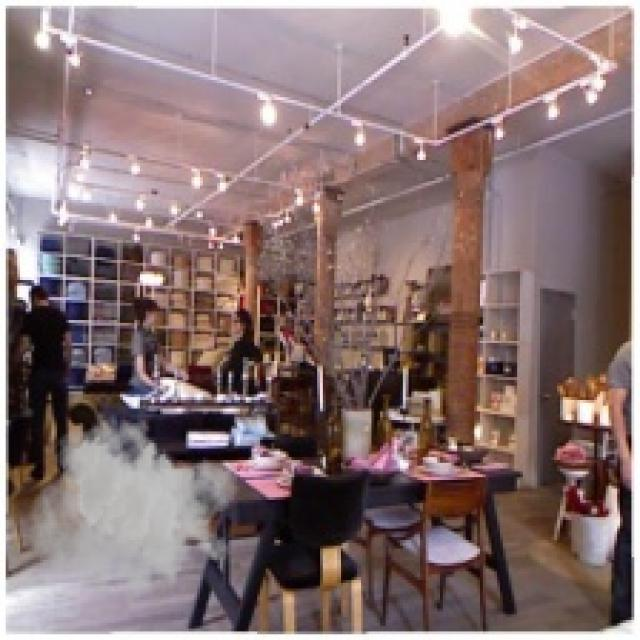smoke: (29, 411, 240, 620)
